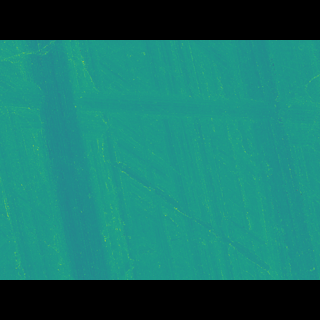Loch: (65, 70, 146, 251), (0, 94, 320, 136)
